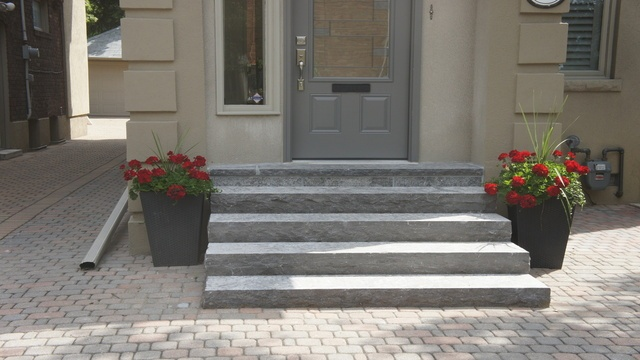upstairs: (220, 167, 480, 316)
